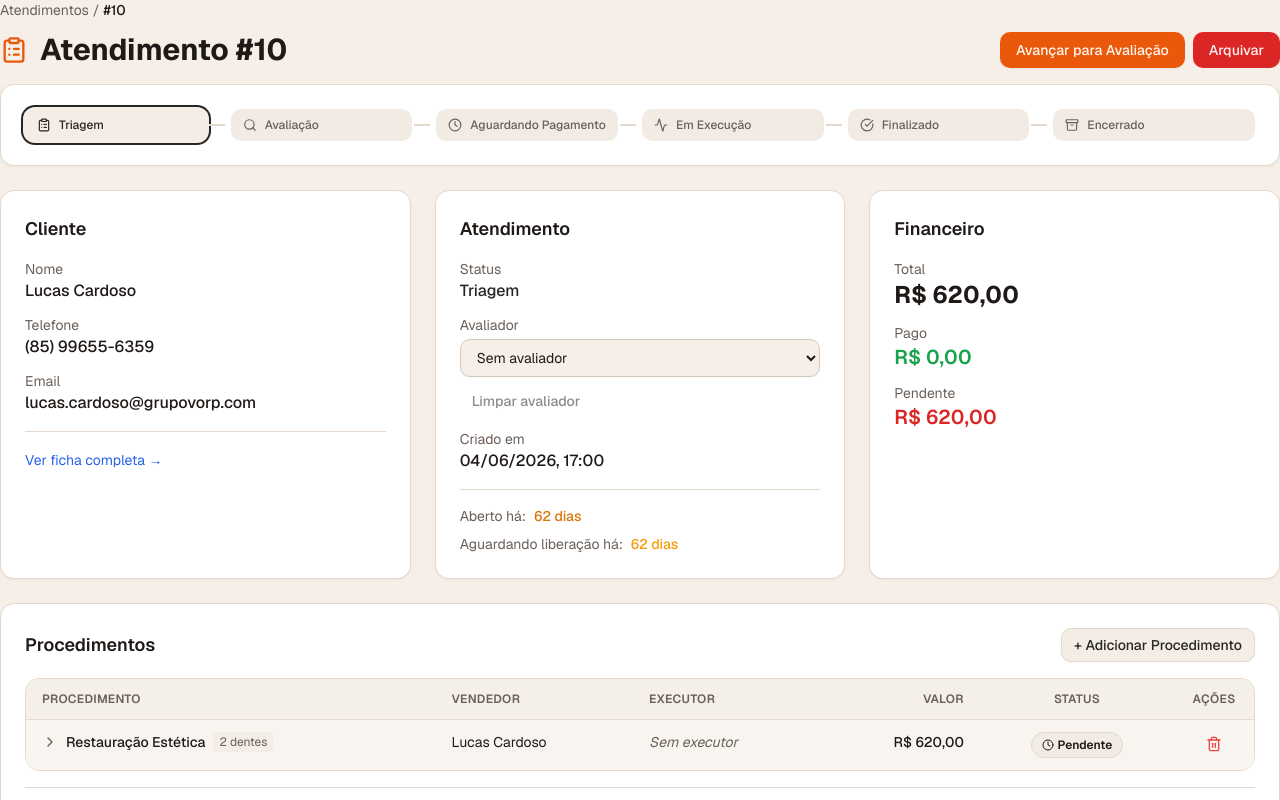
Test: AtendimentoDetalhePage triagem editável › em itens agrupados a edição de valor aparece apenas após expandir as sublinhas
Check: the heading "Atendimento #10" is shown, box [0,32,287,68]
Click the text "Restauração Estética".
click(136, 742)  # box [66,732,206,752]
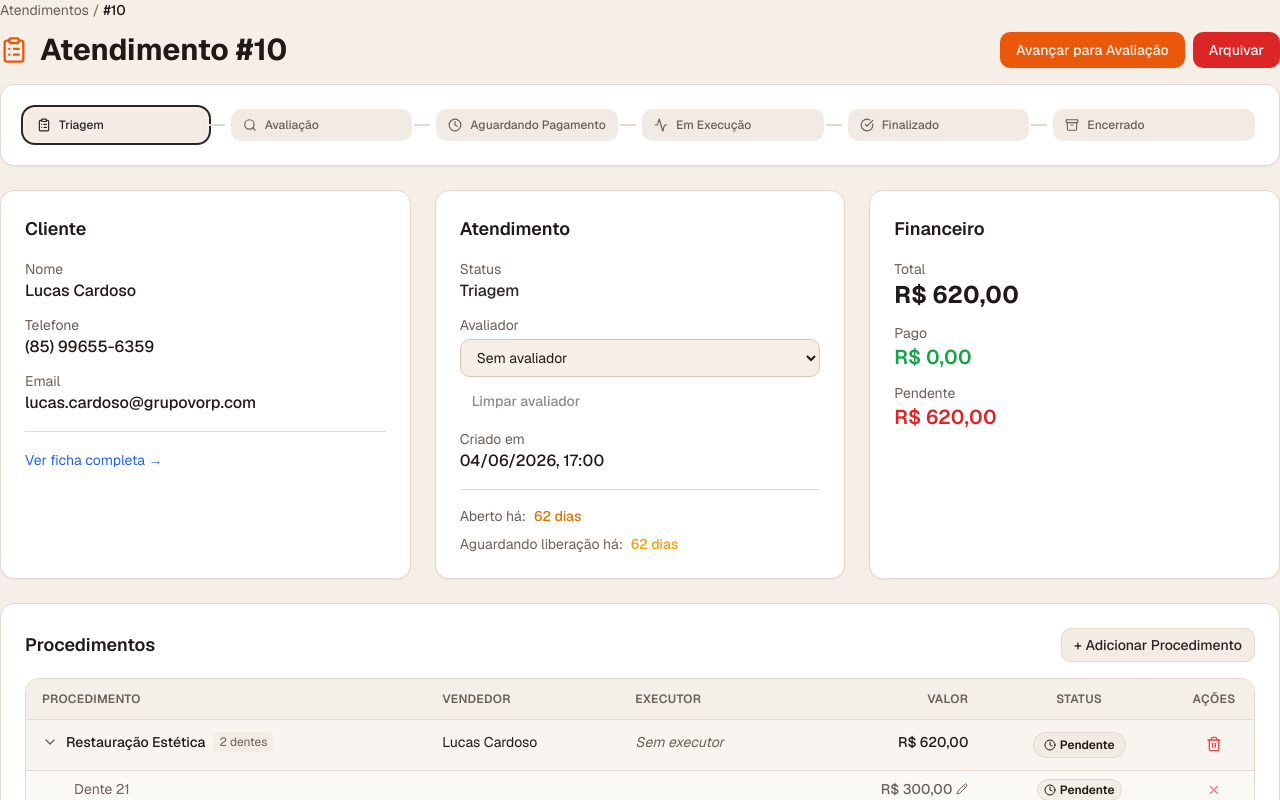
Check: the number of buttons named "Editar valor de Restauração Estética" is 2
